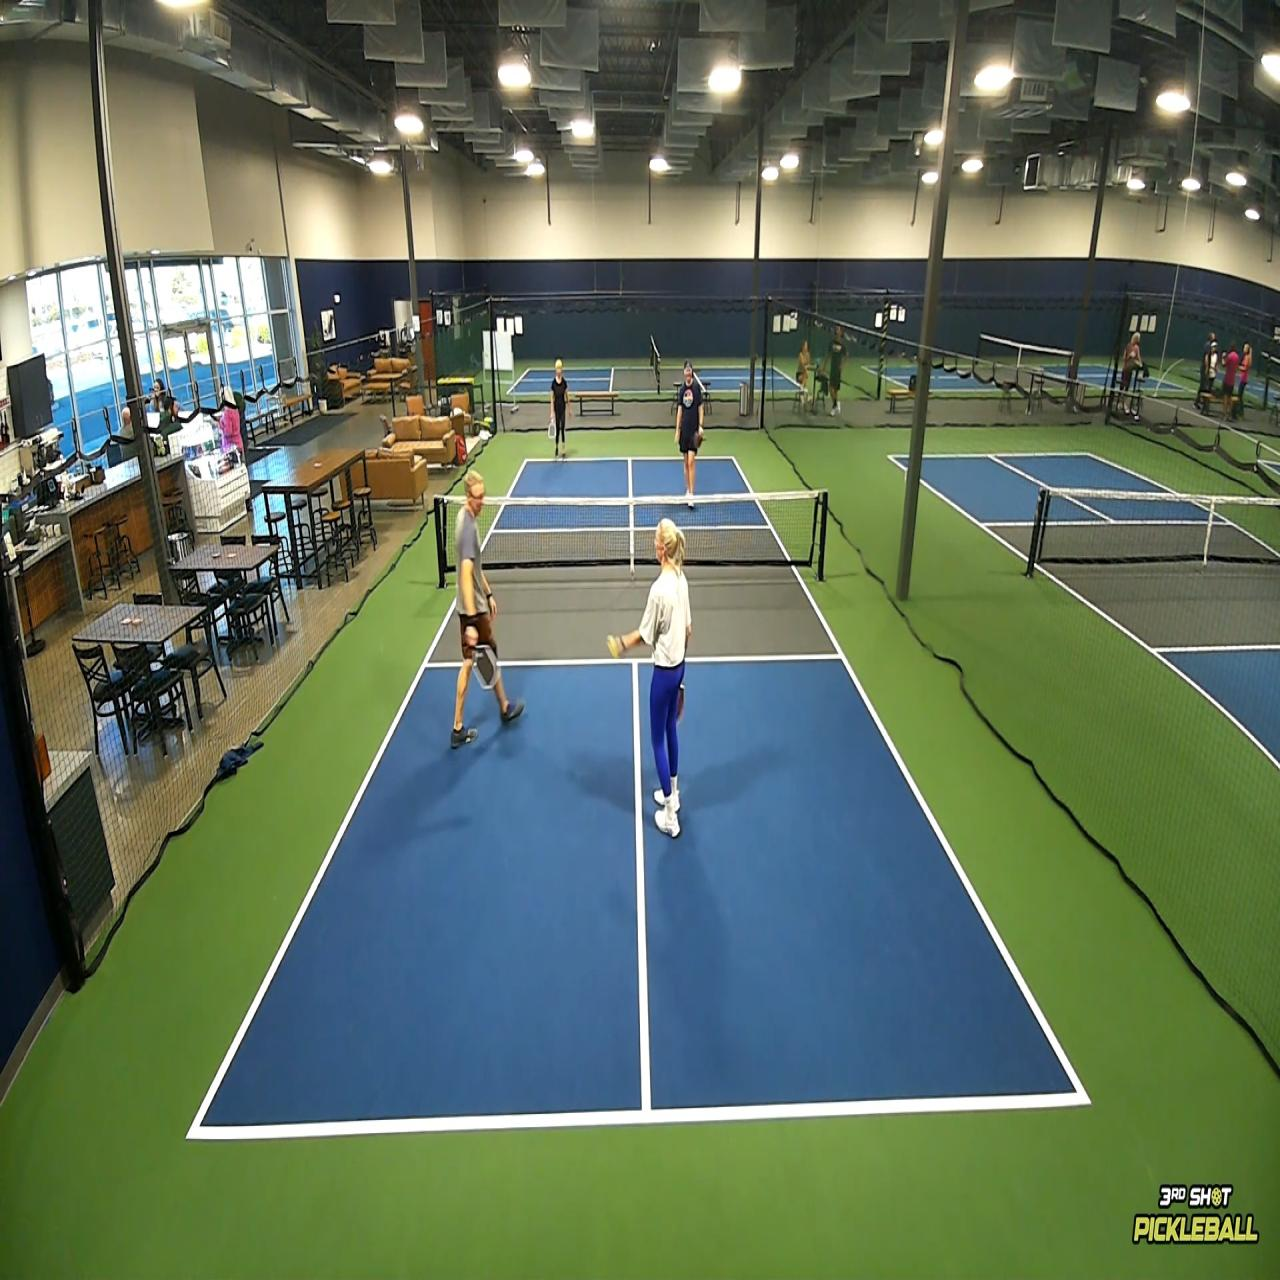Pickleball: (605, 632, 620, 659)
